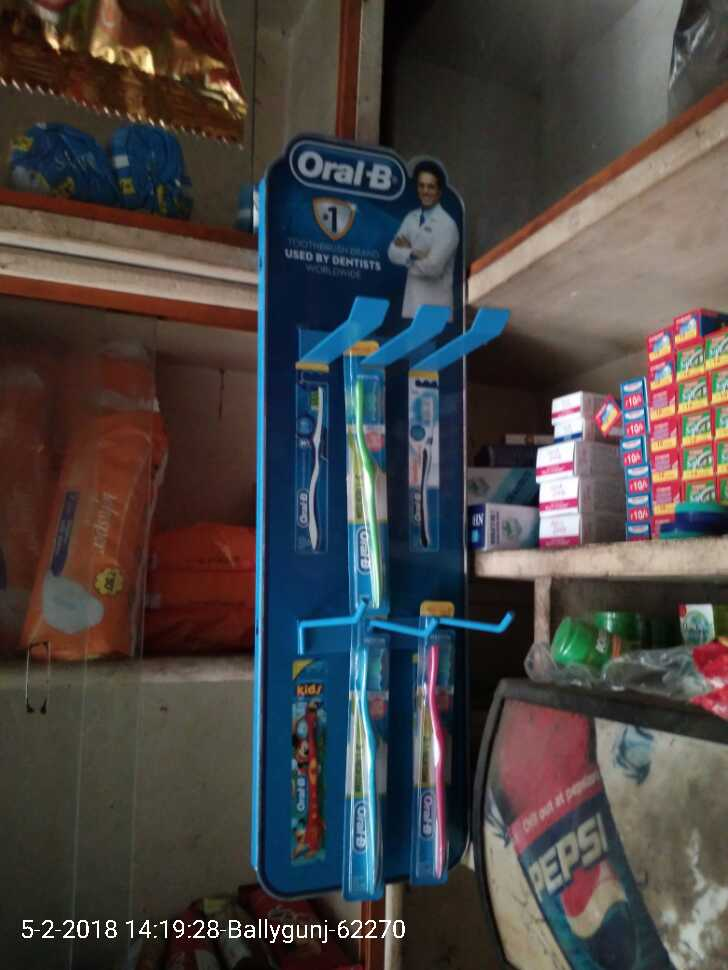oralb: (350, 644, 400, 894), (345, 360, 390, 607), (428, 644, 465, 889)
